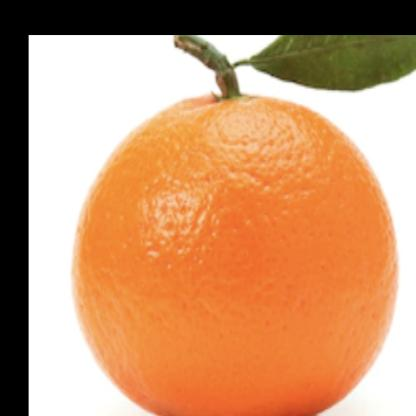rotten: (73, 91, 397, 416)
